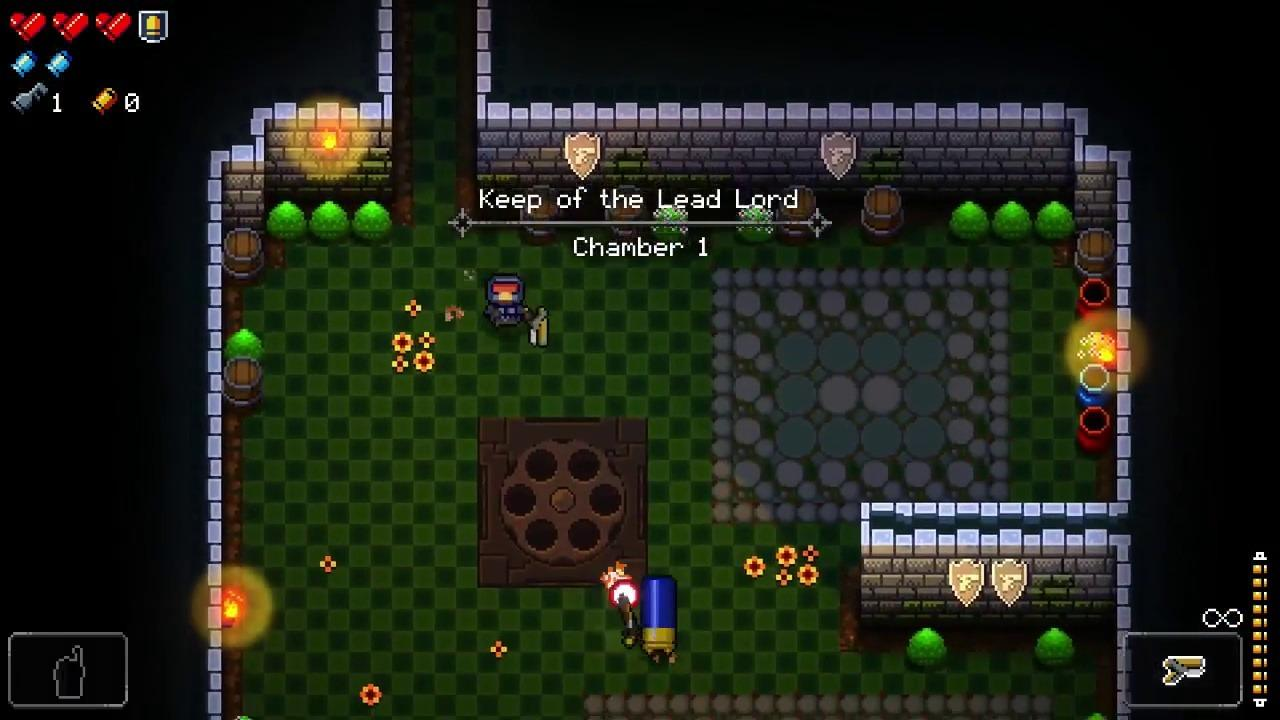blue_shotgun_kin: (640, 573, 676, 659)
bullet: (611, 583, 639, 608)
player: (486, 273, 528, 326)
teleporter: (476, 417, 649, 589)
